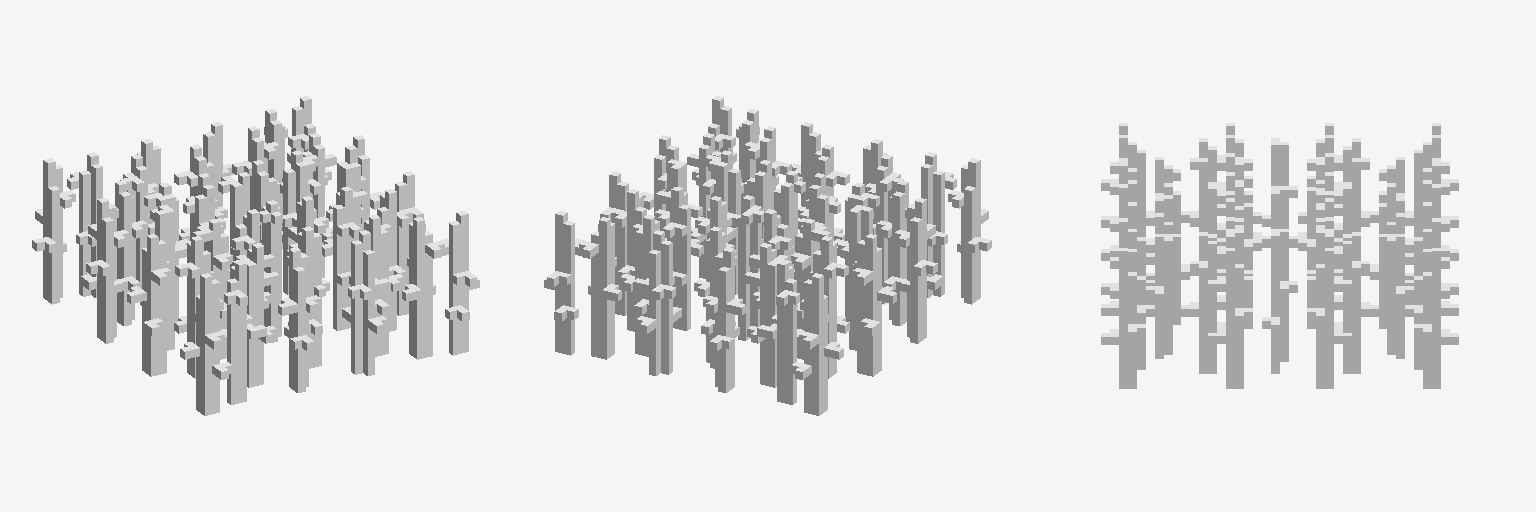
File: MILHO2.obj
3 views of the same model, side by side, from view 1: azimuth 30°, elevation 25°; view 2: azimuth 150°, elevation 25°; view 3: azimuth 270°, elevation 25° (orthographic).
Parts seen in each view (by area): view 1: object 1; view 2: object 1; view 3: object 1.
Part boxes in pixels (x1,y1,x2,y2): object 1: (32,96,479,415); object 1: (544,96,991,415); object 1: (1101,123,1458,388).
Size of the model in its own units: 3.8 by 1.7 by 4.